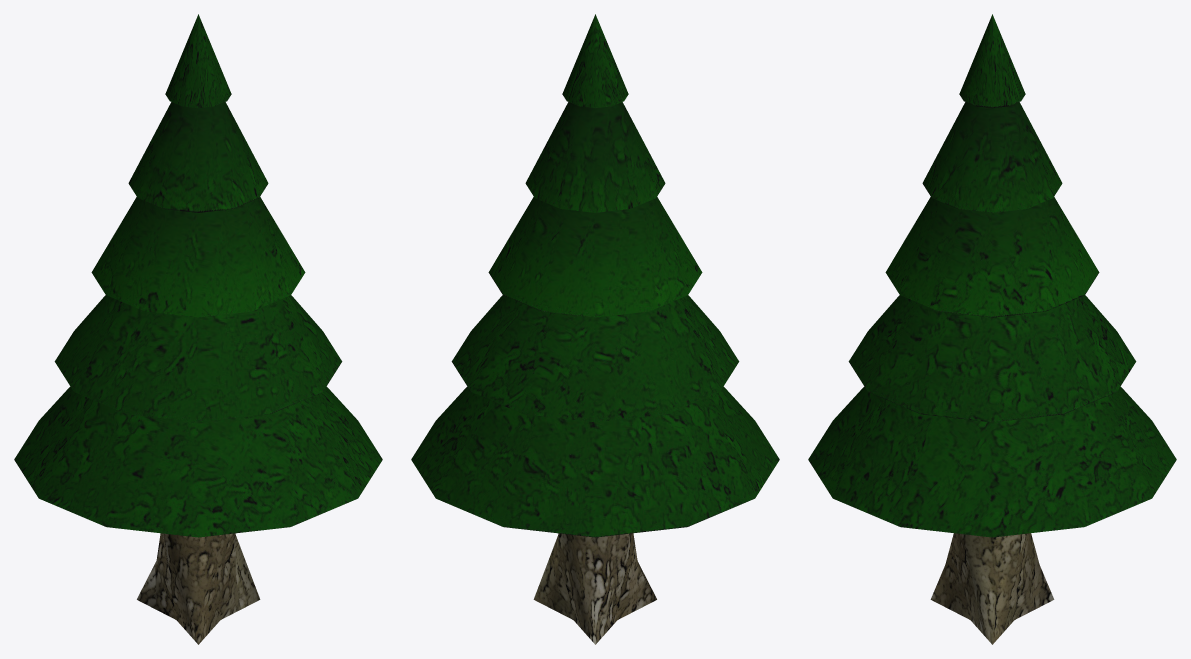
The model's file is Tree.FBX.
3 renders of one model, left to right at view 1: azimuth 30°, elevation 25°; view 2: azimuth 150°, elevation 25°; view 3: azimuth 270°, elevation 25°, orthographic.
Parts seen in each view (by area): view 1: Cone006; view 2: Cone006; view 3: Cone006.
Boxes of the visible parts, x1=… form: Cone006: x1=14, y1=14, x2=382, y2=644; Cone006: x1=411, y1=14, x2=779, y2=644; Cone006: x1=808, y1=14, x2=1176, y2=644.
Size of the model in its own units: 118 by 212 by 118.
